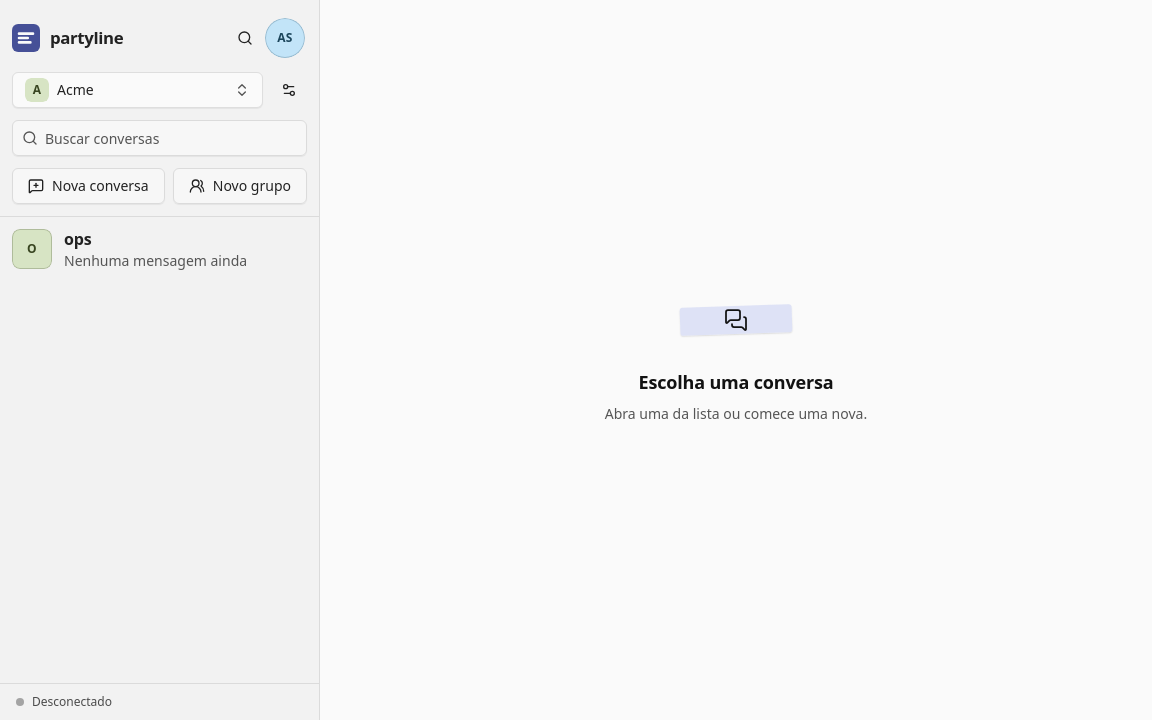
the gear beside the switcher (SET-09) › speaks Portuguese
Click the button named "Páginas de Acme". click: (289, 90)
box: [271,72,307,108]
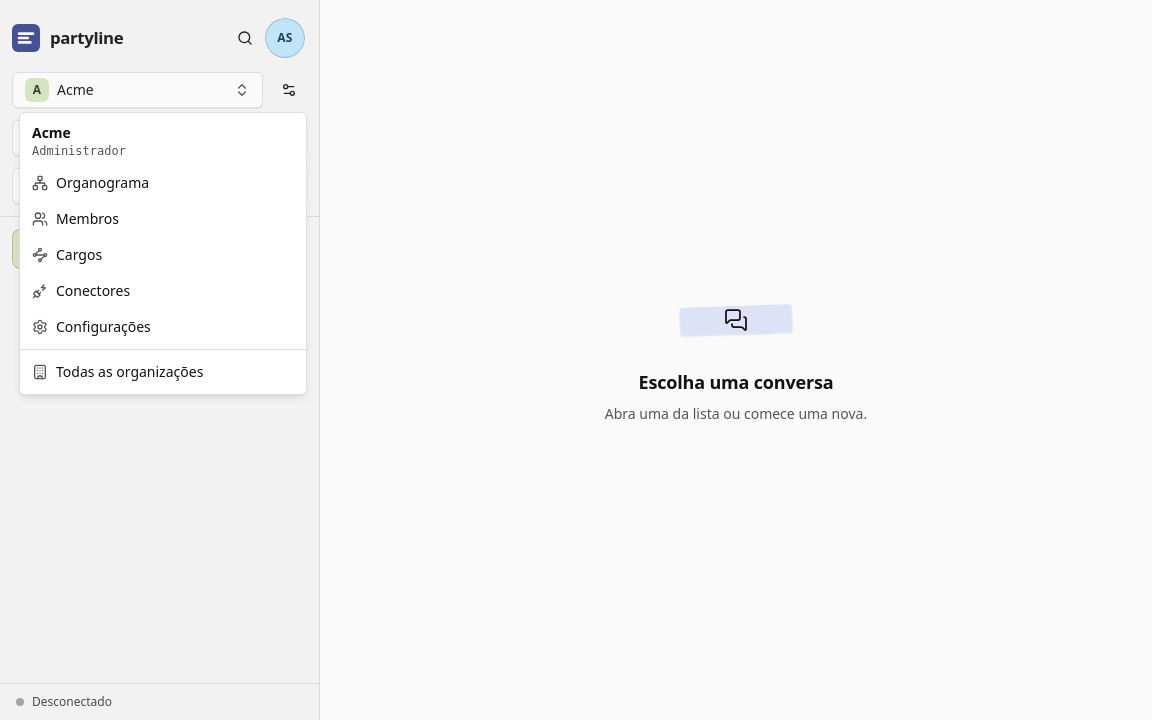
Now the menu item "Organograma" is shown, box [32,173,149,192]
Now the menu item "Membros" is shown, box [32,209,119,228]
Now the menu item "Cargos" is shown, box [32,245,102,264]
